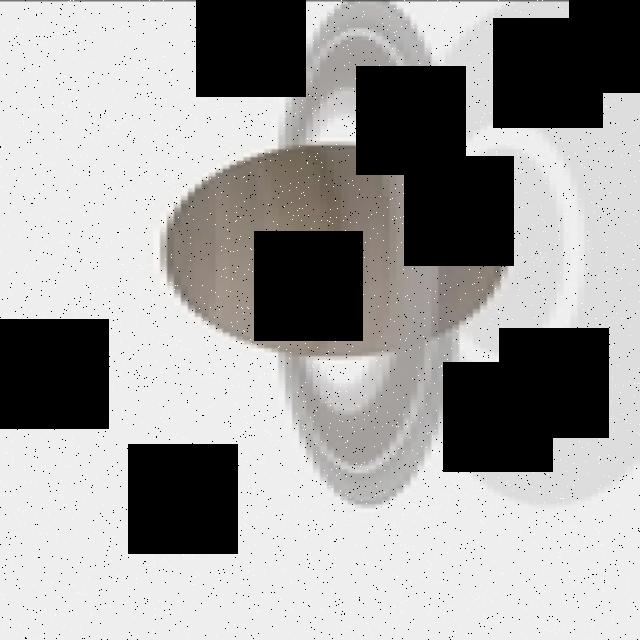Saturn: (153, 0, 508, 507)
